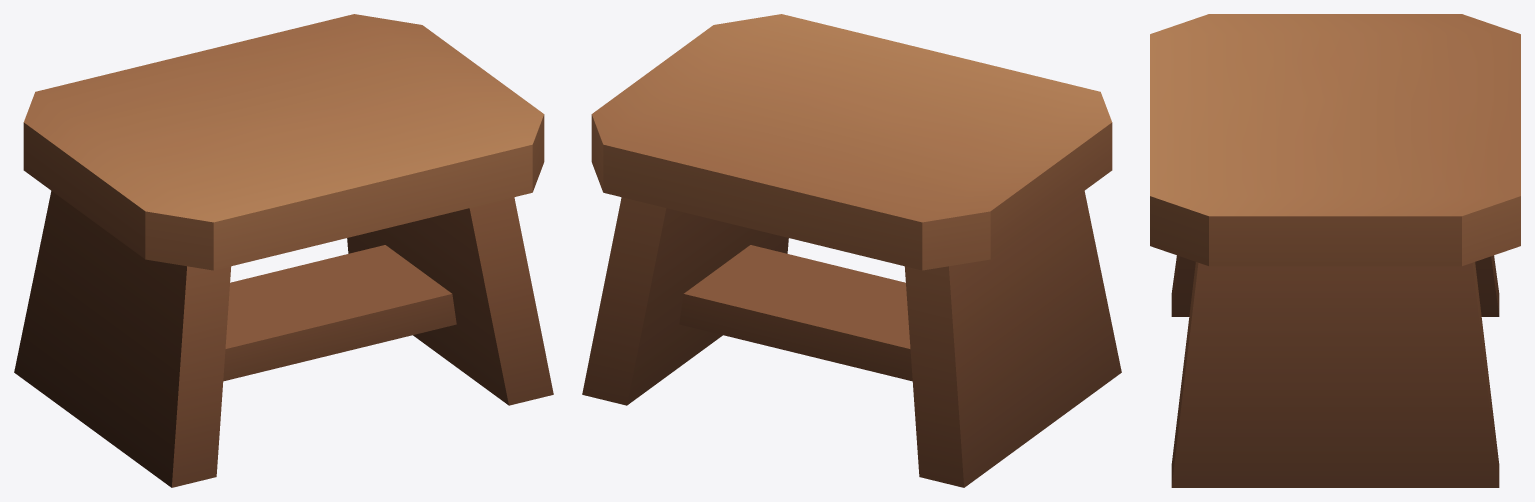
Rendered from SK_Stool_A.FBX.
3 views of the same model, side by side, from view 1: azimuth 30°, elevation 25°; view 2: azimuth 150°, elevation 25°; view 3: azimuth 270°, elevation 25° (orthographic). The views are drawn at different scales.
Parts seen in each view (by area): view 1: SK_Stool_A; view 2: SK_Stool_A; view 3: SK_Stool_A.
Boxes of the visible parts, x1=… form: SK_Stool_A: x1=14, y1=14, x2=553, y2=487; SK_Stool_A: x1=582, y1=14, x2=1121, y2=487; SK_Stool_A: x1=1150, y1=14, x2=1520, y2=487.
Size of the model in its own units: 39.33 by 25.02 by 30.48.
